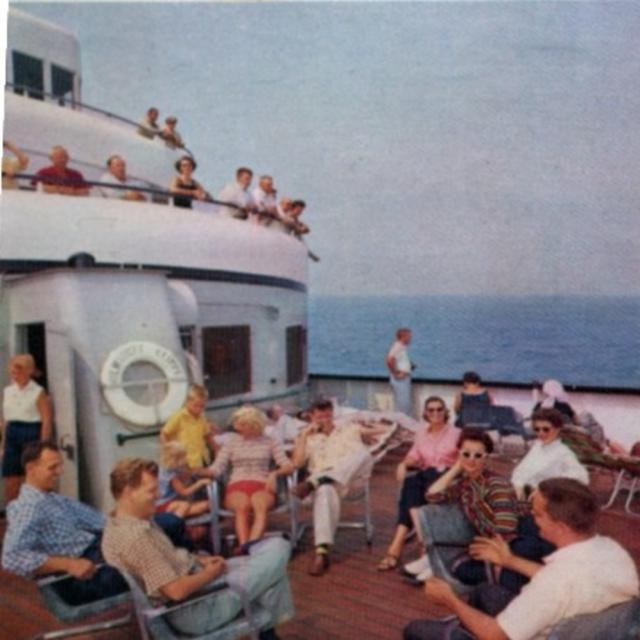Boat: (0, 1, 639, 639)
